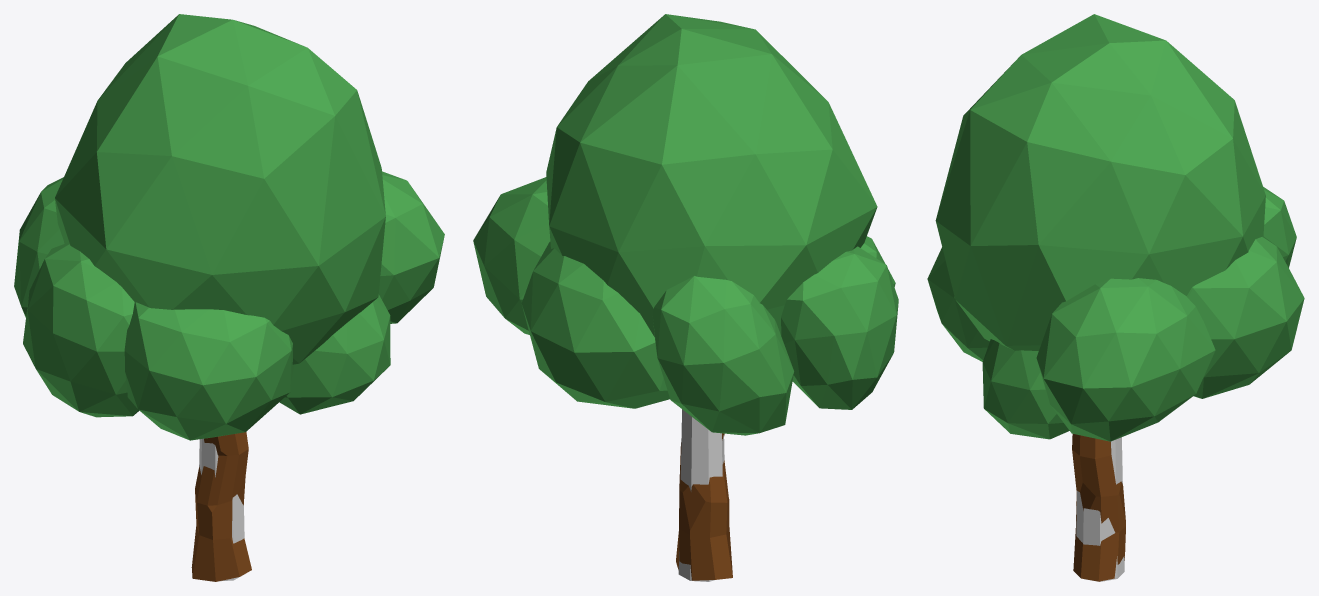
The model's file is floresta_tree_simple_large.glb.
The picture shows the model from 3 angles, left to right: view 1: azimuth 30°, elevation 25°; view 2: azimuth 150°, elevation 25°; view 3: azimuth 270°, elevation 25°; orthographic projection.
Visible parts, largest first — view 1: Simple tree big f, Colisao; view 2: Simple tree big f, Colisao; view 3: Simple tree big f, Colisao.
Boxes of the visible parts, x1,y1,x2,y2 form: Simple tree big f: (14, 14, 444, 581); Colisao: (199, 438, 244, 581); Simple tree big f: (473, 14, 898, 580); Colisao: (678, 409, 724, 581); Simple tree big f: (927, 14, 1304, 581); Colisao: (1076, 437, 1124, 581).
Size of the model in its own units: 13.68 by 17.94 by 11.44.
